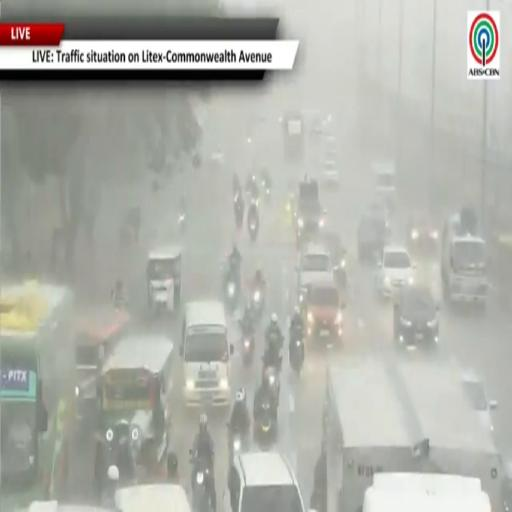car: (224, 452, 305, 511), (394, 284, 438, 348), (305, 279, 344, 345), (462, 370, 497, 430), (297, 244, 333, 301), (116, 484, 191, 511), (376, 246, 415, 297), (357, 213, 390, 262), (321, 231, 347, 287), (406, 213, 439, 252), (372, 160, 397, 210), (302, 109, 324, 135), (501, 460, 511, 511), (322, 159, 339, 186), (324, 136, 338, 163)
jeepney: (0, 282, 75, 511), (95, 334, 173, 488), (76, 306, 130, 431), (146, 246, 182, 311), (21, 501, 112, 511)
motorcycle: (191, 454, 214, 511), (255, 399, 276, 449), (263, 356, 281, 403), (227, 423, 244, 463), (289, 332, 305, 374), (224, 269, 240, 311), (247, 203, 259, 241), (251, 286, 264, 319), (243, 333, 254, 366), (234, 197, 244, 229), (262, 179, 270, 203), (178, 213, 185, 233)
truck: (324, 357, 501, 511), (362, 473, 491, 511), (441, 207, 489, 308), (295, 179, 324, 248)
